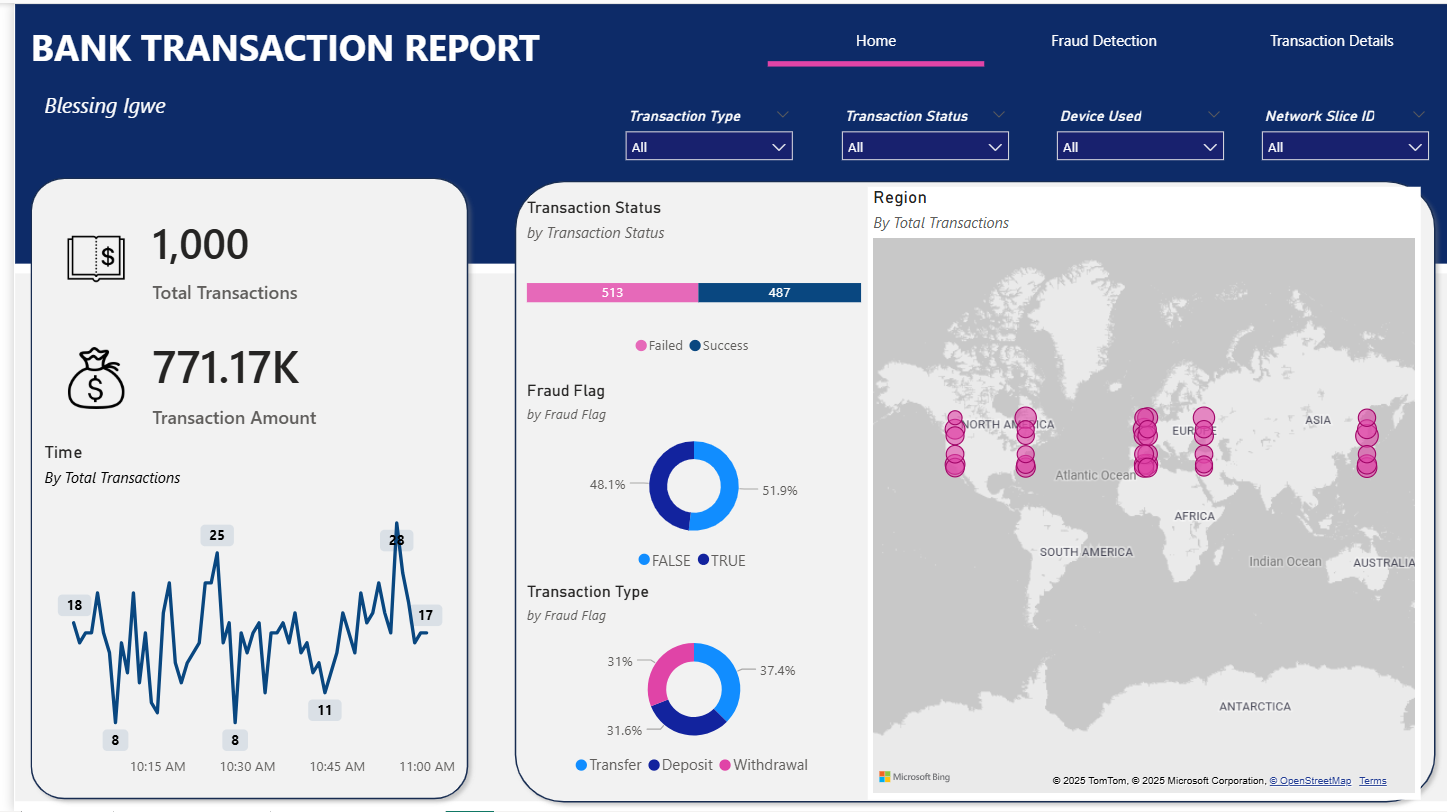

Layout of this report page (visuals, bound fields, positions):
{"tool":"powerbi","page":{"name":"Home","canvas":[1280,720],"ordinal":0},"visuals":[{"type":"cardVisual","fields":{"Data":["bank transaction_data.Total Transactions"]},"box":[31.4,173.7,354.7,108.6],"z":0},{"type":"cardVisual","fields":{"Data":["Sum(bank transaction_data.Transaction Amount)"]},"box":[31.4,282.3,354.7,108.6],"z":1000},{"type":"lineChart","title":"Time","fields":{"Y":["bank transaction_data.Total Transactions"],"Category":["bank transaction_data.Time"]},"box":[21.7,390.9,376.4,306.4],"z":2000},{"type":"barChart","title":"Transaction Status","fields":{"Y":["bank transaction_data.Total Transactions"],"Series":["bank transaction_data.Transaction Status"]},"box":[452.4,173.7,307.6,149.6],"z":3000},{"type":"donutChart","title":"Fraud Flag","fields":{"Y":["bank transaction_data.Total Transactions"],"Category":["bank transaction_data.Fraud Flag"]},"box":[452.4,336.6,307.6,178.6],"z":4000},{"type":"donutChart","title":"Transaction Type","fields":{"Y":["bank transaction_data.Total Transactions"],"Category":["bank transaction_data.Transaction Type"]},"box":[452.4,515.2,307.6,182.2],"z":5000},{"type":"map","title":"Region","fields":{"Size":["bank transaction_data.Total Transactions"],"X":["bank transaction_data.Longitude Value"],"Y":["bank transaction_data.Latitude Value"]},"box":[760.1,164.1,492.2,545.3],"z":6000},{"type":"slicer","fields":{"Values":["bank transaction_data.Network Slice ID"]},"box":[1101.5,88.1,168.9,60.3],"z":7000},{"type":"slicer","fields":{"Values":["bank transaction_data.Device Used"]},"box":[918.9,88.1,168.9,60.3],"z":8000},{"type":"slicer","fields":{"Values":["bank transaction_data.Transaction Status"]},"box":[726.7,88.1,168.9,60.3],"z":9000},{"type":"slicer","fields":{"Values":["bank transaction_data.Transaction Type"]},"box":[534.5,88.1,168.9,60.3],"z":10000},{"type":"textbox","box":[9.7,12.1,493.4,88.1],"z":11000},{"type":"textbox","box":[21.7,73.6,200.3,88.1],"z":12000},{"type":"pageNavigator","box":[670.8,7.2,599.6,49.5],"z":13000}]}

Visuals, with their boxes in screenshot pixels (x1, y1, x2, y2), scaled from the page's 1280x720 canvas onto the 1447x812 screenshot:
cardVisual - bank transaction_data.Total Transactions: {"x1": 35, "y1": 196, "x2": 436, "y2": 318}
cardVisual - Sum(bank transaction_data.Transaction Amount): {"x1": 35, "y1": 318, "x2": 436, "y2": 441}
"Time" lineChart: {"x1": 25, "y1": 441, "x2": 450, "y2": 786}
"Transaction Status" barChart: {"x1": 511, "y1": 196, "x2": 859, "y2": 365}
"Fraud Flag" donutChart: {"x1": 511, "y1": 380, "x2": 859, "y2": 581}
"Transaction Type" donutChart: {"x1": 511, "y1": 581, "x2": 859, "y2": 787}
"Region" map: {"x1": 859, "y1": 185, "x2": 1416, "y2": 800}
slicer - bank transaction_data.Network Slice ID: {"x1": 1245, "y1": 99, "x2": 1436, "y2": 167}
slicer - bank transaction_data.Device Used: {"x1": 1039, "y1": 99, "x2": 1230, "y2": 167}
slicer - bank transaction_data.Transaction Status: {"x1": 822, "y1": 99, "x2": 1012, "y2": 167}
slicer - bank transaction_data.Transaction Type: {"x1": 604, "y1": 99, "x2": 795, "y2": 167}
textbox: {"x1": 11, "y1": 14, "x2": 569, "y2": 113}
textbox: {"x1": 25, "y1": 83, "x2": 251, "y2": 182}
pageNavigator: {"x1": 758, "y1": 8, "x2": 1436, "y2": 64}
